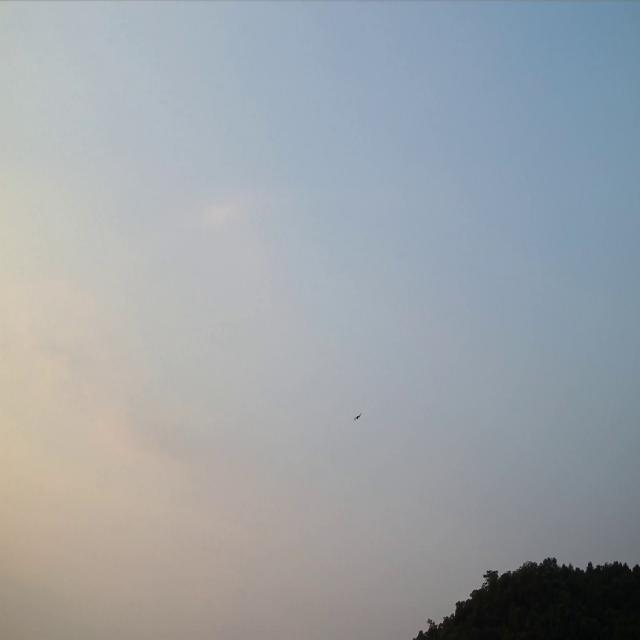UAV: (354, 412, 362, 421)
